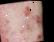plaque psoriasis: (0, 5, 23, 42), (0, 0, 29, 9), (21, 33, 43, 42), (21, 4, 32, 20), (34, 12, 41, 25), (31, 1, 38, 3)
